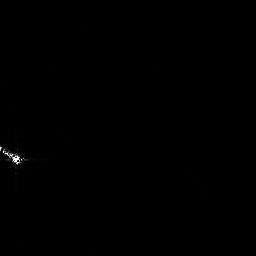ship: (1, 145, 29, 168)
